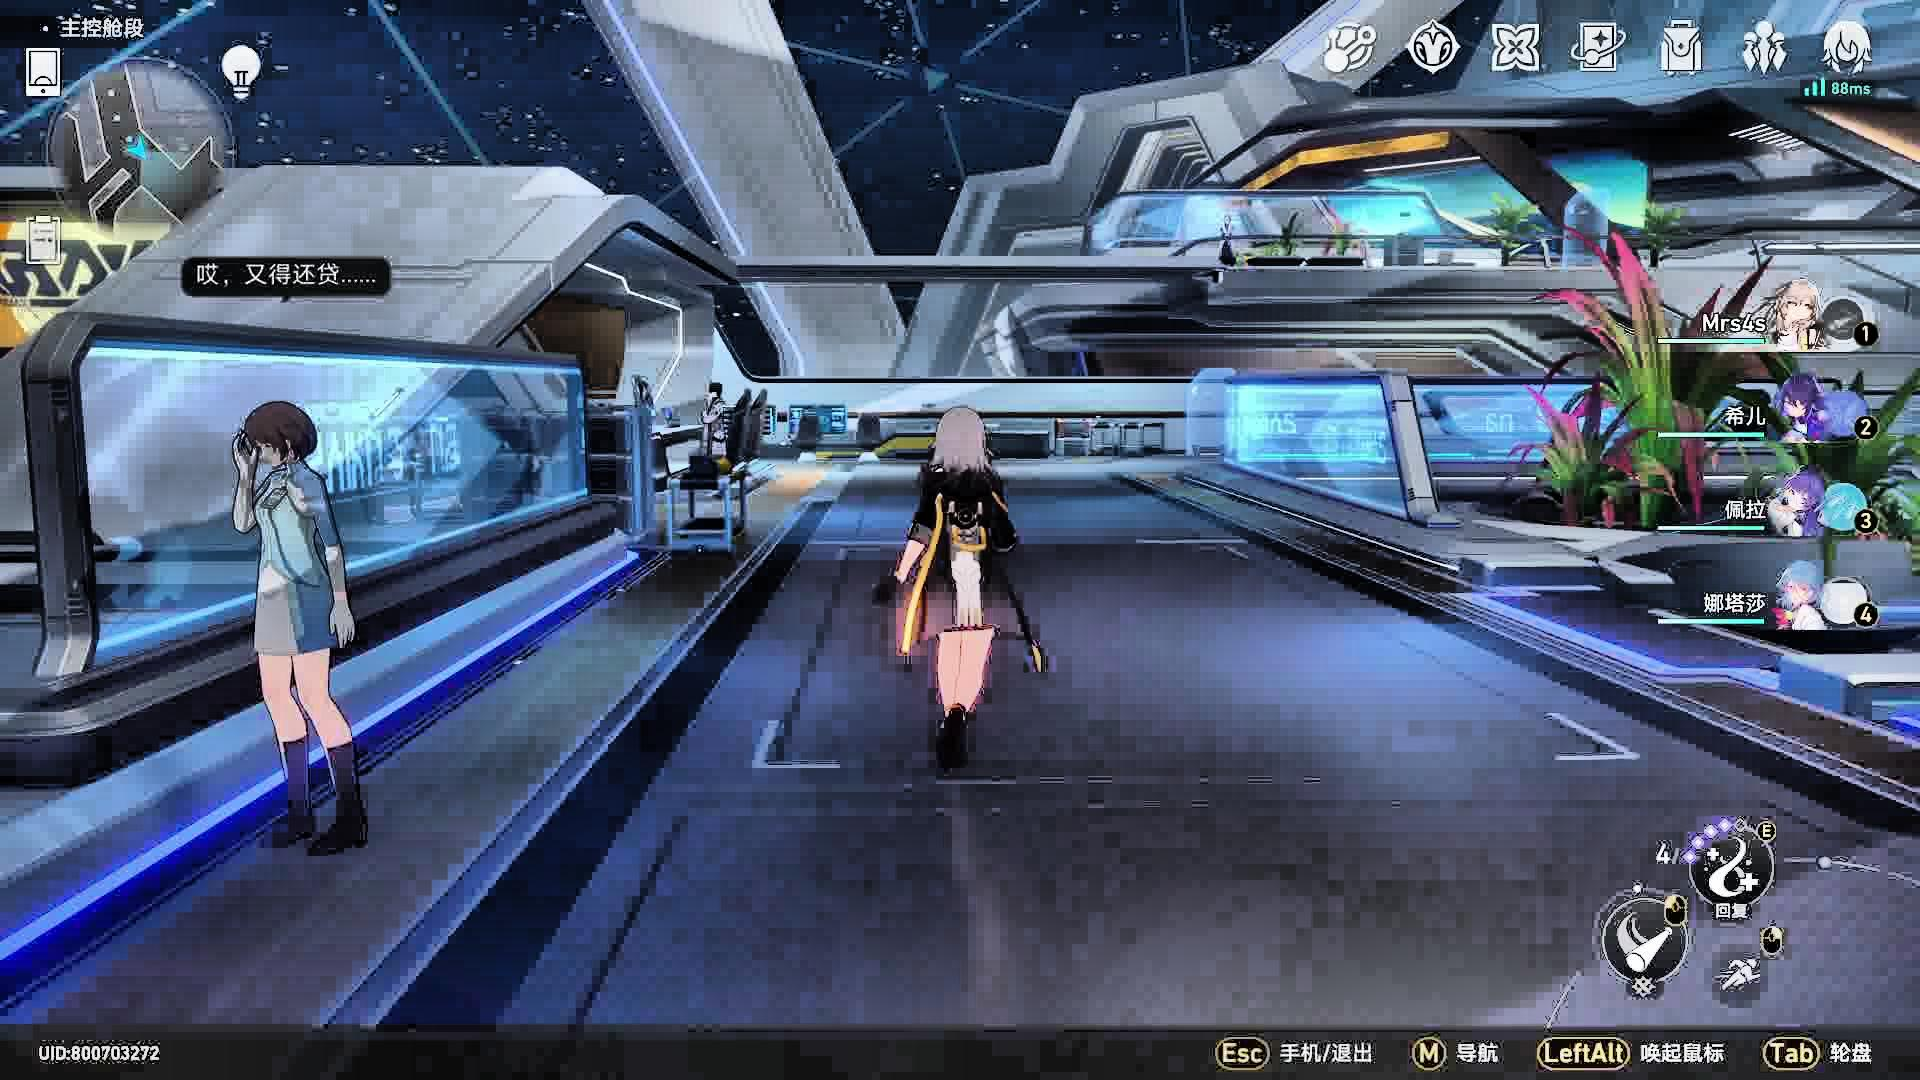Self: (876, 405, 1054, 774)
TeamMate: (229, 401, 369, 855), (696, 372, 731, 479)
